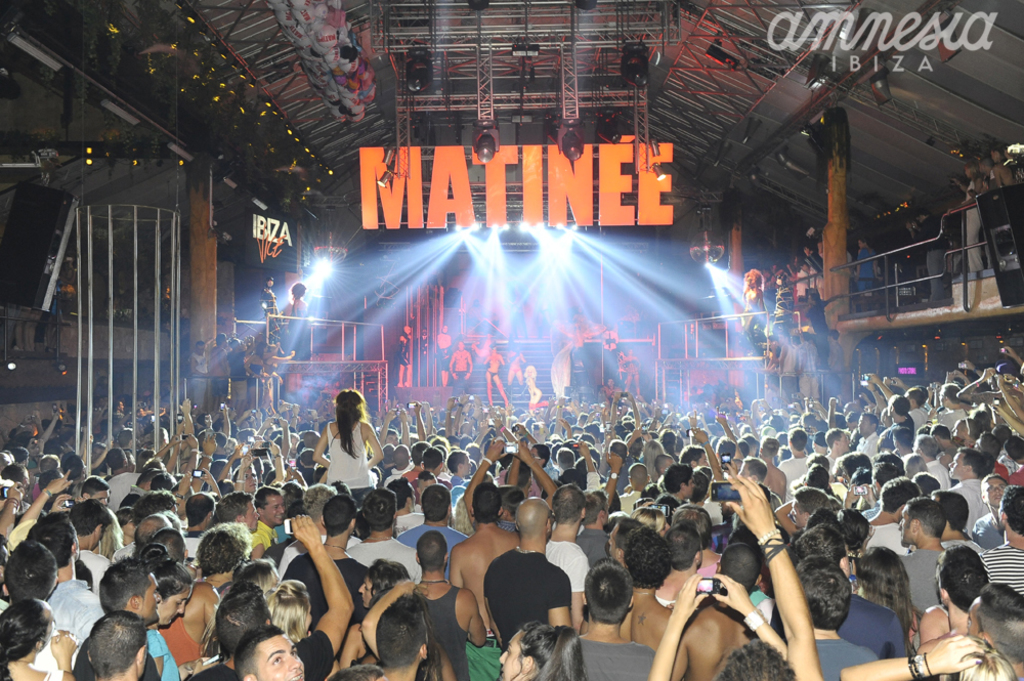Human_hand: (0, 175, 1023, 506), (729, 486, 806, 565), (926, 634, 987, 672), (669, 570, 712, 618), (709, 573, 752, 612), (290, 511, 323, 548), (49, 631, 80, 664), (46, 470, 77, 497), (391, 578, 418, 600), (486, 441, 508, 462), (604, 450, 624, 472), (515, 441, 534, 461), (264, 440, 281, 459), (575, 440, 592, 457), (176, 399, 194, 414), (712, 411, 729, 426), (689, 430, 708, 443), (863, 373, 880, 386), (983, 368, 998, 382), (384, 410, 400, 423), (410, 401, 423, 415), (1004, 347, 1015, 360), (201, 468, 211, 481)
